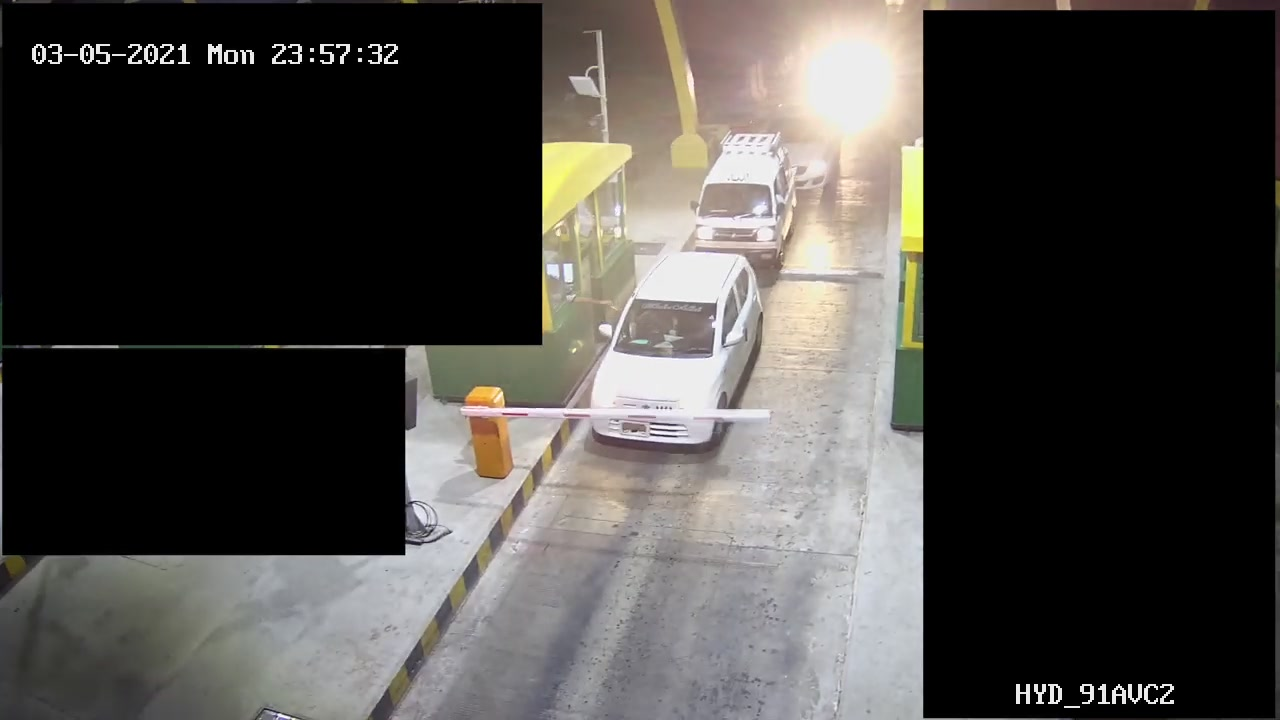F1: (583, 252, 765, 462), (671, 133, 824, 261)
